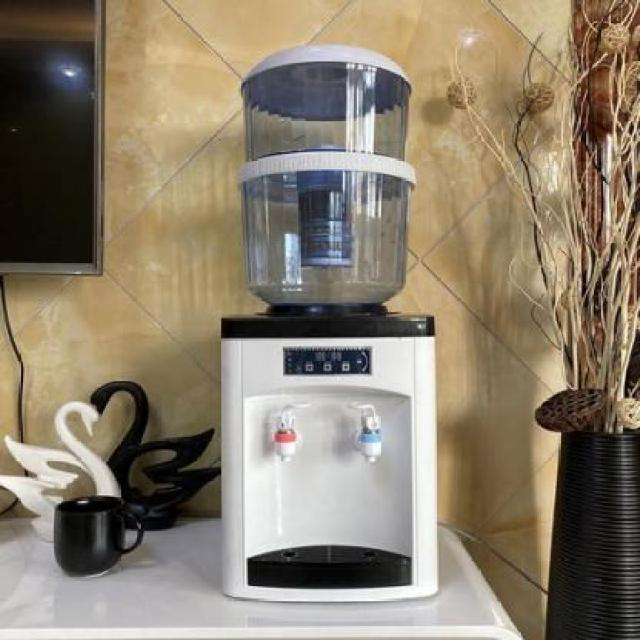coolerbottle: (236, 42, 417, 308)
